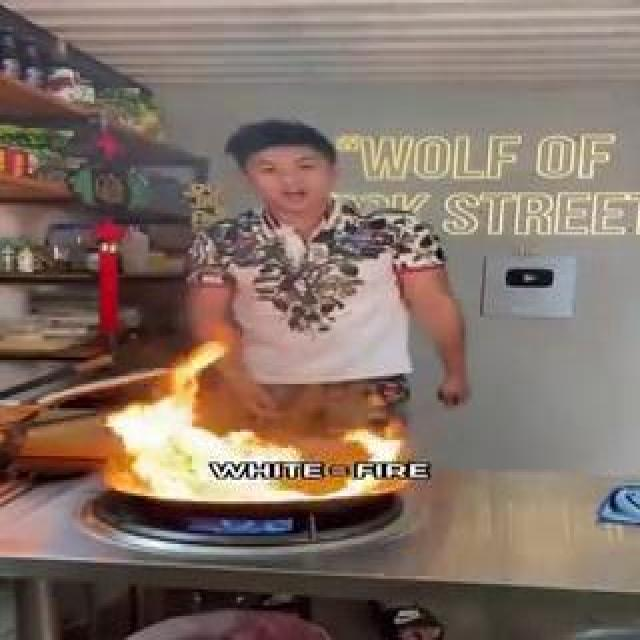Fire: (236, 226, 328, 392)
